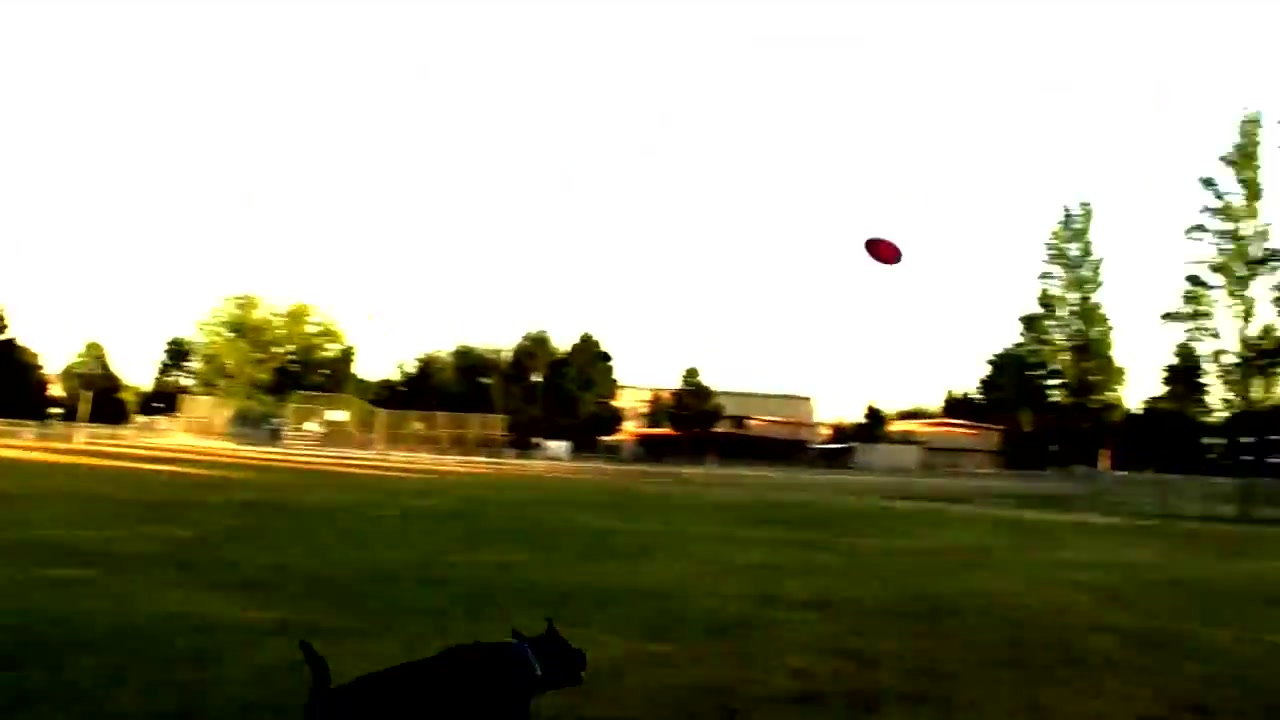dog: (298, 614, 602, 719)
